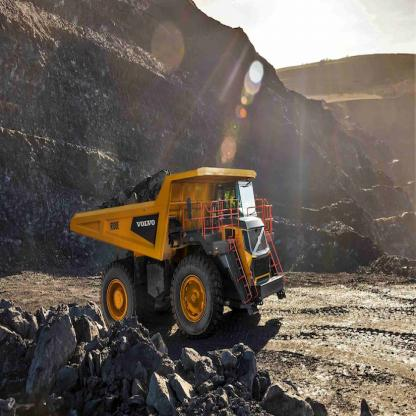dump_truck: (62, 157, 286, 344)
